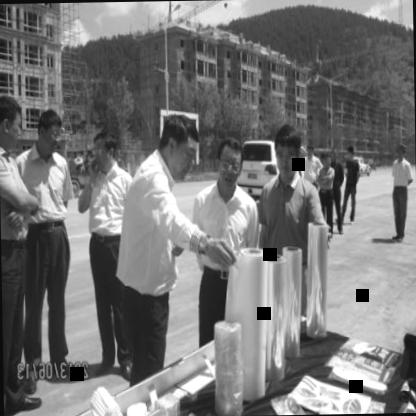head: (156, 110, 196, 178), (270, 120, 304, 182), (214, 134, 245, 192), (35, 106, 64, 156), (0, 91, 25, 149), (92, 130, 118, 172), (304, 141, 315, 161), (396, 143, 407, 162), (331, 144, 341, 164), (323, 152, 332, 168)
